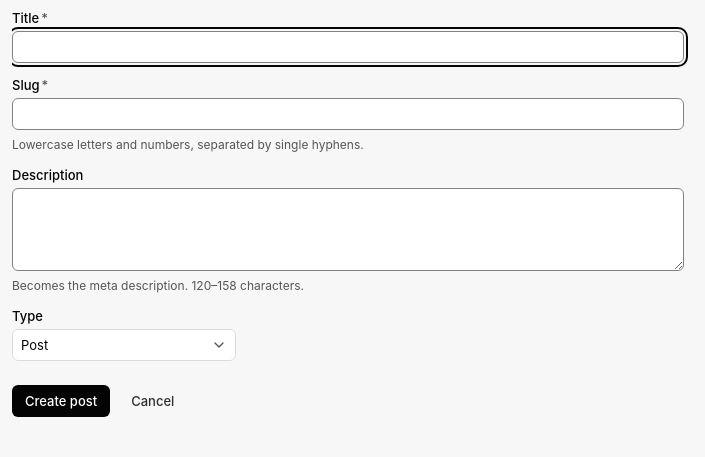
NewDocumentForm › after the server rejects the submission › shows the reason next to the field that caused it
Type "My post" into the field labelled "Title*" at (348, 47), box [12,31,684,63]
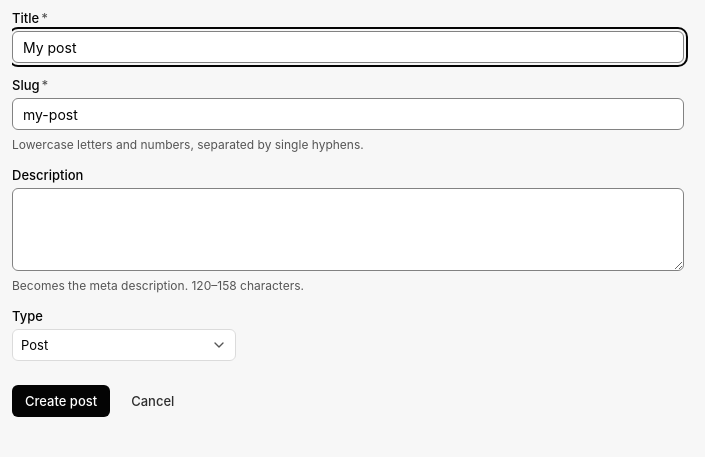
Click the button "Create post" at (61, 401), box [12,385,110,417]
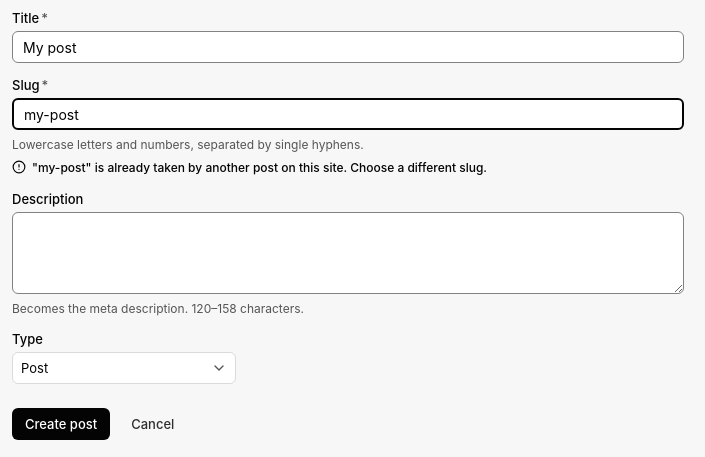
Check: the text "already taken by another post" is shown, box [32,160,487,175]
